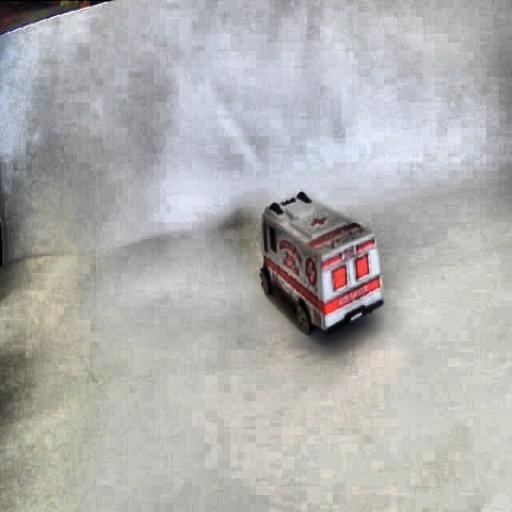ambulance: (258, 190, 384, 335)
